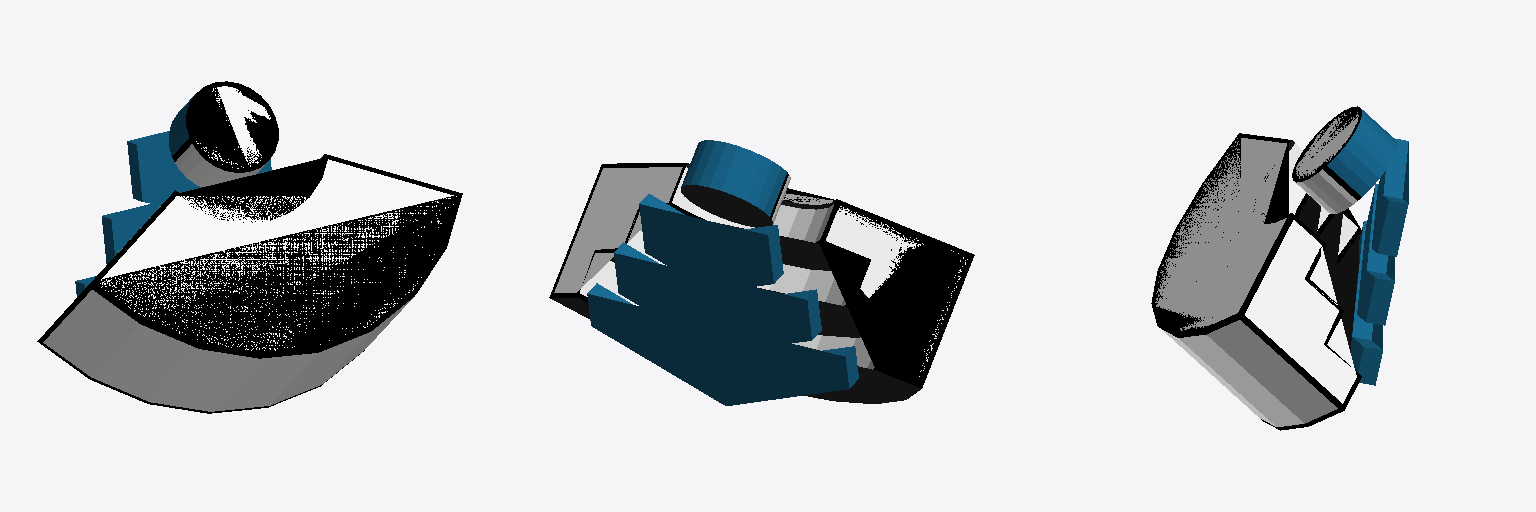
3 renders of one model, left to right at view 1: azimuth 30°, elevation 25°; view 2: azimuth 150°, elevation 25°; view 3: azimuth 270°, elevation 25°, orthographic.
Visible parts, largest first — view 1: Mesh1 oa_logo_stairs1 Model, Mesh2 oa_logo_podium1 Model, Mesh5 oa_logo_broadcast1 Model, Mesh4 oa_logo_broadcast1 Model; view 2: Mesh1 oa_logo_stairs1 Model, Mesh3 oa_logo_broadcast1 Model, Mesh4 oa_logo_broadcast1 Model, Mesh5 oa_logo_broadcast1 Model, Mesh2 oa_logo_podium1 Model; view 3: Mesh1 oa_logo_stairs1 Model, Mesh2 oa_logo_podium1 Model, Mesh5 oa_logo_broadcast1 Model, Mesh4 oa_logo_broadcast1 Model, Mesh3 oa_logo_broadcast1 Model.
Part boxes in pixels (x1,y1,x2,y2): Mesh1 oa_logo_stairs1 Model: (37,154,462,413); Mesh2 oa_logo_podium1 Model: (169,81,278,186); Mesh5 oa_logo_broadcast1 Model: (127,131,271,204); Mesh4 oa_logo_broadcast1 Model: (102,204,160,263); Mesh1 oa_logo_stairs1 Model: (549,163,974,403); Mesh3 oa_logo_broadcast1 Model: (587,283,858,405); Mesh4 oa_logo_broadcast1 Model: (614,242,821,345); Mesh5 oa_logo_broadcast1 Model: (639,194,783,292); Mesh2 oa_logo_podium1 Model: (681,140,790,227); Mesh1 oa_logo_stairs1 Model: (1151,133,1361,430); Mesh2 oa_logo_podium1 Model: (1292,106,1396,213); Mesh5 oa_logo_broadcast1 Model: (1372,138,1408,256); Mesh4 oa_logo_broadcast1 Model: (1357,184,1394,325); Mesh3 oa_logo_broadcast1 Model: (1350,221,1382,385).
Size of the model in its own units: 0.433 by 0.3182 by 0.2588.
Materials: 5 (1 with a texture image).